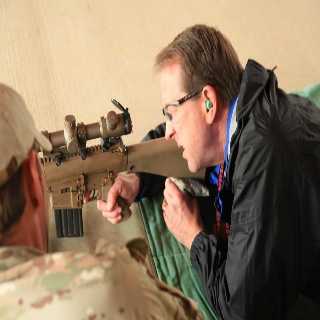rifle: (34, 96, 211, 239)
